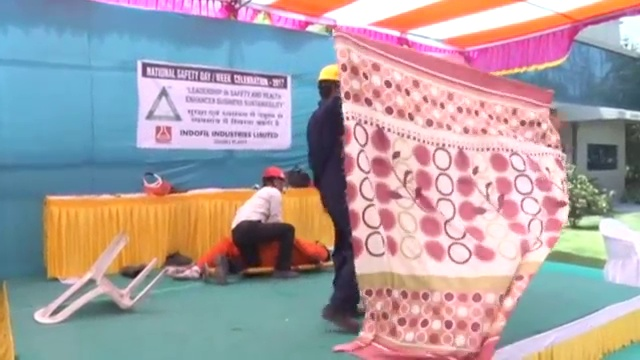helmet: (318, 61, 344, 84), (262, 164, 286, 182)
helmet_on: (316, 61, 345, 103), (261, 163, 286, 193)
person: (305, 61, 364, 332), (212, 163, 299, 291), (166, 234, 336, 287)
